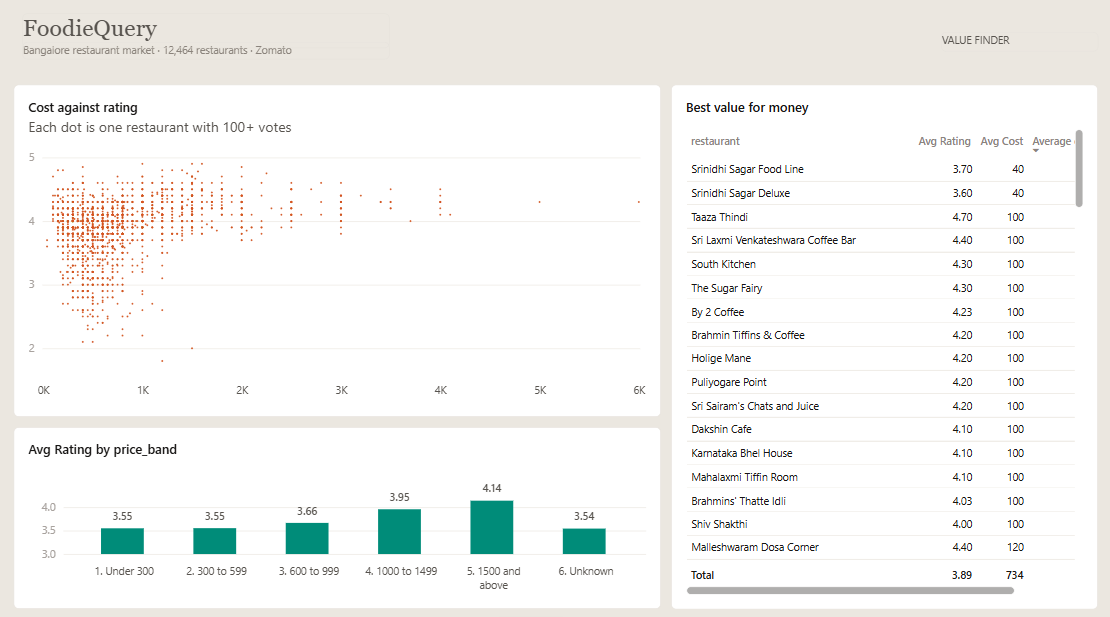

The page's visual inventory and layout, read from the dashboard file:
{"tool":"powerbi","page":{"name":"Value Finder","canvas":[1280,720],"ordinal":3},"visuals":[{"type":"scatterChart","title":"Cost against rating","fields":{"Category":["vw_bi_restaurants.restaurant"],"X":["vw_bi_restaurants.Avg Cost"],"Y":["vw_bi_restaurants.Avg Rating"]},"box":[20,100,740,380],"z":0},{"type":"tableEx","title":"Best value for money","fields":{"Values":["vw_bi_restaurants.restaurant","vw_bi_restaurants.Avg Rating","vw_bi_restaurants.Avg Cost","Avg(vw_bi_restaurants.value_score)"]},"box":[772,100,488,600],"z":1000},{"type":"clusteredColumnChart","fields":{"Category":["vw_bi_restaurants.price_band"],"Y":["vw_bi_restaurants.Avg Rating"]},"box":[20,492,740,208],"z":2000},{"type":"textbox","box":[30,52,420,20],"z":3000},{"type":"textbox","box":[30,18,420,40],"z":4000},{"type":"textbox","box":[1080,40,180,22],"z":5000}]}

Visuals, with their boxes in screenshot pixels (x1, y1, x2, y2), scaled from the page's 1280x720 canvas onto the 1110x617 screenshot:
"Cost against rating" scatterChart: (left=17, top=86, right=659, bottom=411)
"Best value for money" tableEx: (left=669, top=86, right=1093, bottom=600)
clusteredColumnChart - vw_bi_restaurants.price_band x vw_bi_restaurants.Avg Rating: (left=17, top=422, right=659, bottom=600)
textbox: (left=26, top=45, right=390, bottom=62)
textbox: (left=26, top=15, right=390, bottom=50)
textbox: (left=937, top=34, right=1093, bottom=53)
